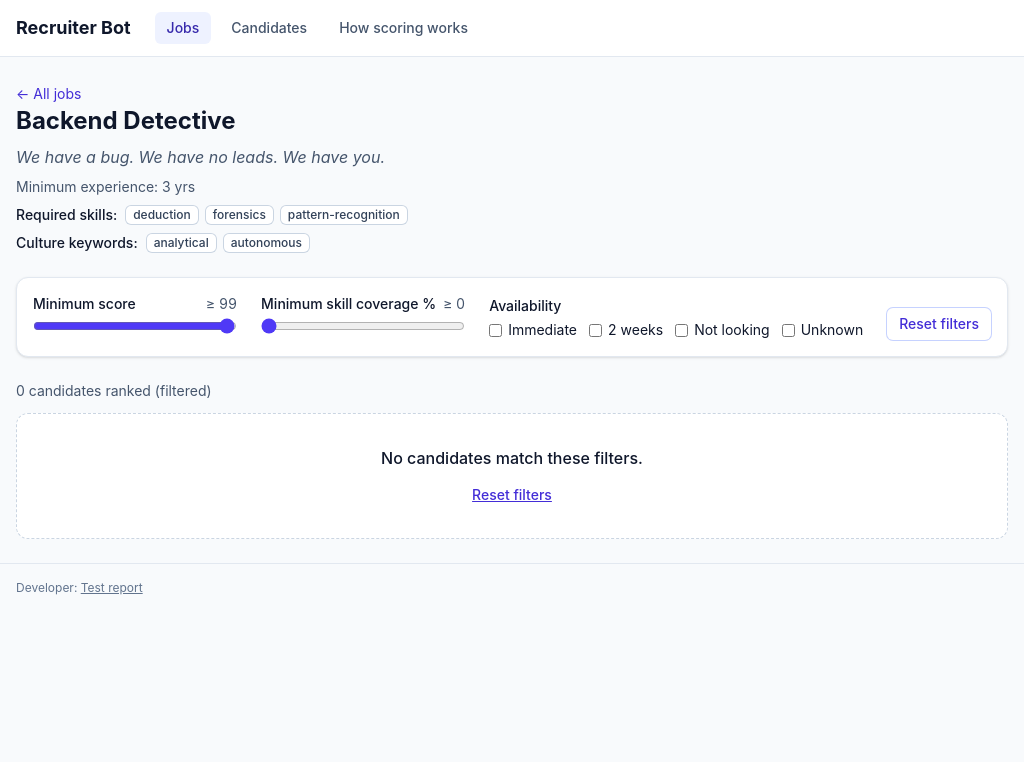
Scenario: job matches page › shows an empty state that can reset the filters
Expected: the text "No candidates match these filters." is shown, [381,448,643,468]
Click the button "Reset filters" below "No candidates match these filters." at (512, 495), box [472,485,552,505]
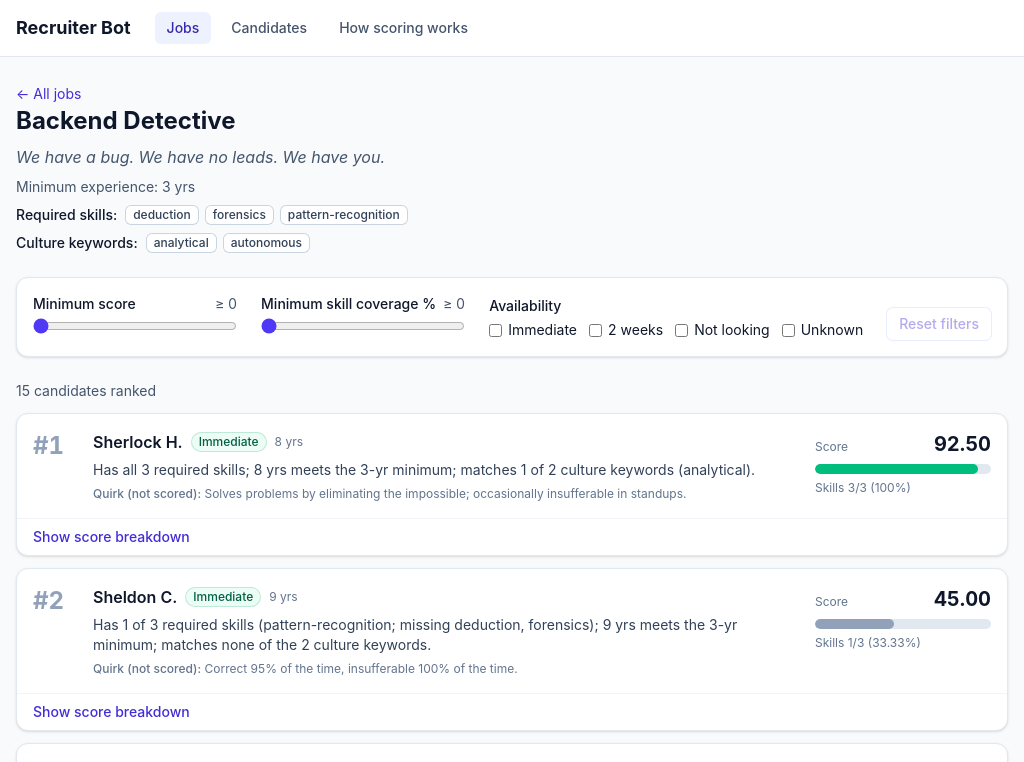
Expected: the text "15 candidates ranked" is shown, [16,382,156,399]
